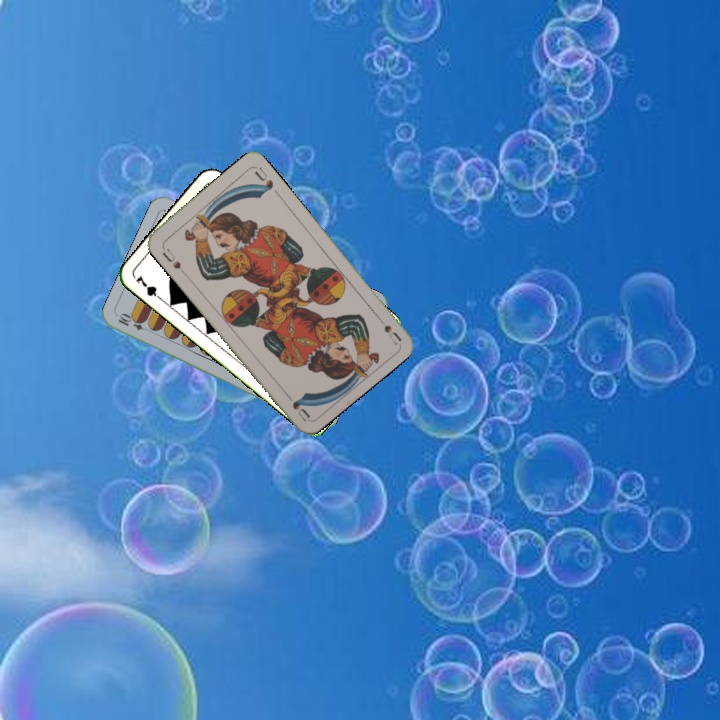E10: (114, 311, 154, 335)
G7: (132, 271, 166, 304)
SU: (371, 310, 403, 346), (158, 242, 188, 277)
